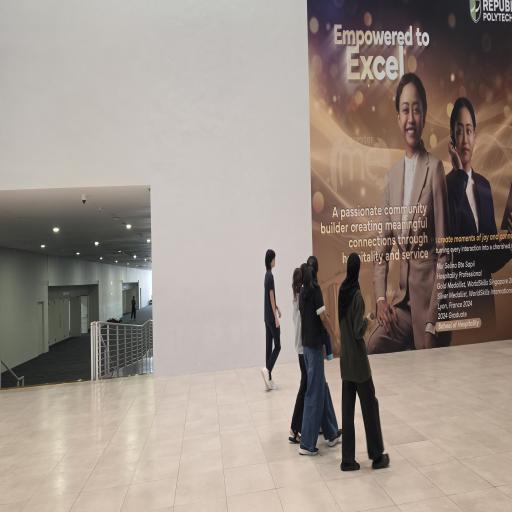person_right: (335, 252, 396, 475), (300, 258, 341, 452), (258, 238, 284, 391), (290, 256, 310, 442)
